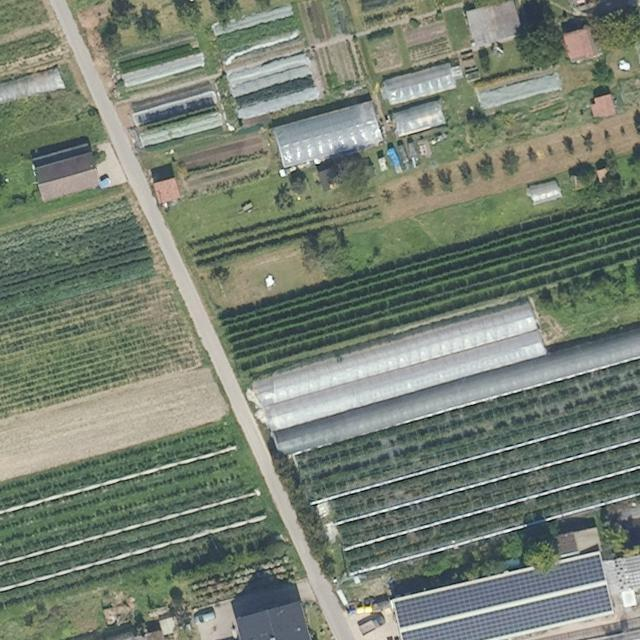PV: (393, 554, 606, 628), (401, 584, 613, 639)
